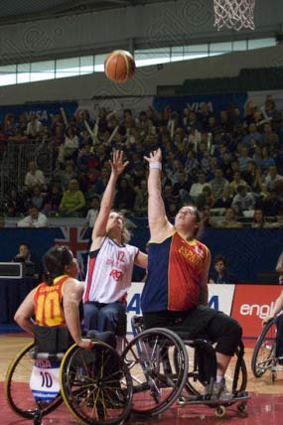basketball: (104, 49, 136, 83)
